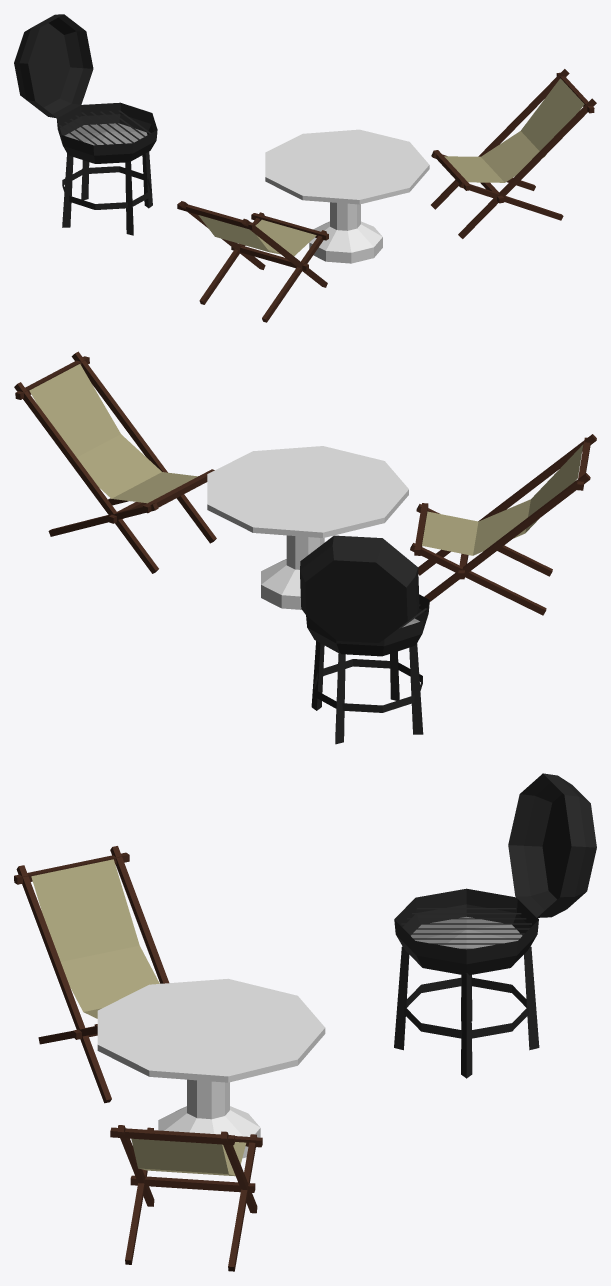
Rendered from Fireplace2.dae.
The picture shows the model from 3 angles, top to bottom: view 1: azimuth 30°, elevation 25°; view 2: azimuth 150°, elevation 25°; view 3: azimuth 270°, elevation 25°; orthographic projection. The views are drawn at different scales.
Visible parts, largest first — view 1: Fireplace2; view 2: Fireplace2; view 3: Fireplace2.
Part boxes in pixels (<box>): Fireplace2: <box>14,14,596,322</box>; Fireplace2: <box>14,351,596,744</box>; Fireplace2: <box>14,773,596,1271</box>.
Bounding box in the file's own units: 9.68 × 8.06 × 3.77.
